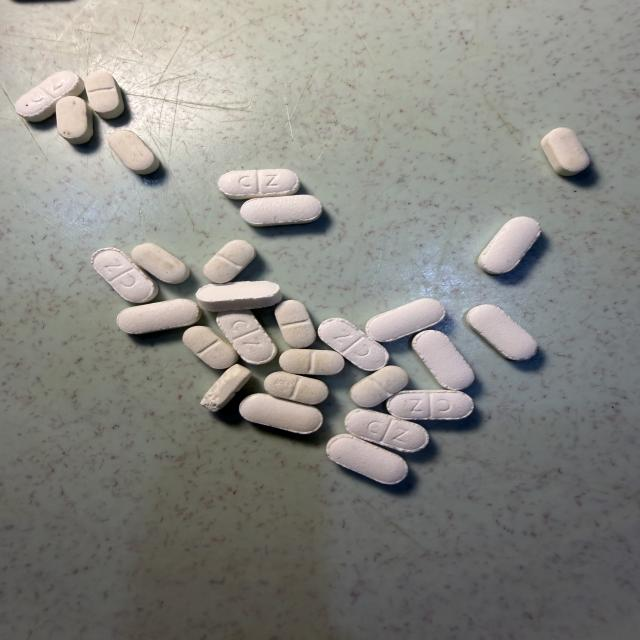pill: (327, 434, 408, 484), (466, 305, 537, 360), (412, 330, 474, 390), (318, 318, 388, 370), (92, 248, 158, 303), (478, 217, 541, 274), (345, 409, 428, 452), (366, 298, 445, 342), (15, 71, 84, 121), (239, 394, 322, 433), (217, 310, 276, 364), (117, 299, 201, 334), (196, 281, 281, 311), (240, 195, 322, 226), (387, 390, 473, 419), (218, 169, 300, 199), (350, 366, 408, 407), (132, 243, 190, 283), (183, 326, 238, 368), (542, 128, 590, 176), (201, 365, 251, 411), (203, 240, 256, 283), (108, 130, 159, 174), (264, 372, 328, 404), (275, 300, 315, 348), (85, 71, 124, 119), (56, 96, 93, 144), (279, 349, 344, 375)
